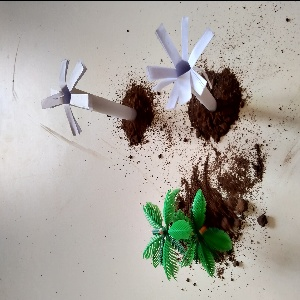plant: (132, 186, 233, 276)
weed: (140, 13, 233, 125), (33, 60, 136, 141)
